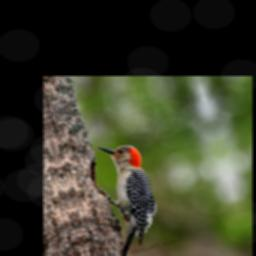Woodpecker: (86, 132, 177, 256)
